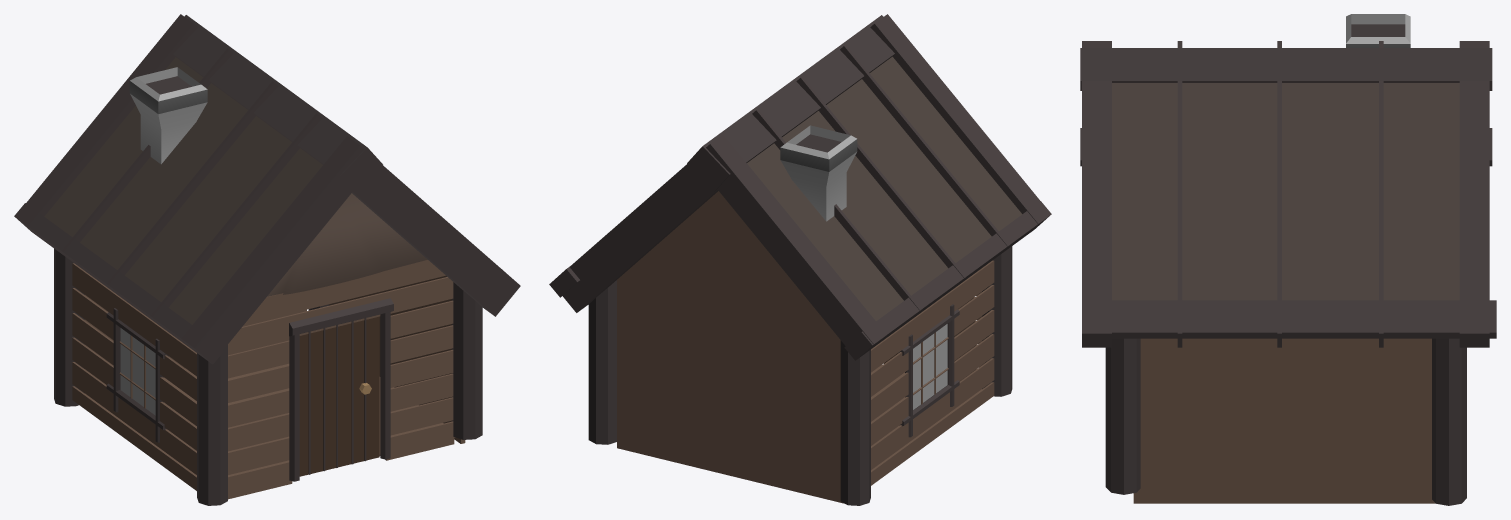
File: grass_house.fbx
The picture shows the model from 3 angles, left to right: view 1: azimuth 30°, elevation 25°; view 2: azimuth 150°, elevation 25°; view 3: azimuth 270°, elevation 25°; orthographic projection. The views are drawn at different scales.
Visible parts, largest first — view 1: pCube4, pCube2, pCube6, pCube1, pCone1, pCube3, pCube40, pCylinder4, pCylinder3, pCube38, pCube18, pCube25 (+32 smaller); view 2: pCube37, pCube4, pCube3, pCube1, pCube2, pCube40, pCylinder1, pCylinder2, pCube38, pCube27, pCylinder4, pCube34 (+12 smaller); view 3: pCube5, pCube36, pCube39, pCube1, pCube3, pCube2, pCylinder2, pCylinder3, pCube40, pCube42, pCube43, pCube44.
Part boxes in pixels (x1,y1,x2,y2): pCube4: (44, 57, 322, 324); pCube2: (181, 136, 520, 355); pCube6: (299, 316, 379, 476); pCube1: (173, 15, 382, 193); pCone1: (267, 193, 427, 296); pCube3: (15, 14, 197, 233); pCube40: (129, 67, 207, 164); pCylinder4: (197, 345, 227, 505); pCylinder3: (452, 282, 482, 439); pCube38: (14, 203, 223, 364); pCube18: (228, 277, 453, 353); pCube25: (244, 260, 445, 324); pCube37: (617, 191, 844, 503); pCube4: (747, 56, 1022, 320); pCube3: (563, 134, 886, 350); pCube1: (687, 15, 894, 191); pCube2: (870, 14, 1051, 229); pCube40: (780, 125, 857, 221); pCylinder1: (840, 340, 870, 505); pCylinder2: (588, 280, 616, 444); pCube38: (844, 201, 1051, 360); pCube27: (871, 260, 994, 372); pCylinder4: (982, 246, 1012, 396); pCube34: (871, 358, 994, 469); pCube5: (1112, 83, 1459, 300); pCube36: (1133, 338, 1435, 503); pCube39: (1084, 300, 1496, 338); pCube1: (1080, 48, 1492, 90); pCube3: (1459, 41, 1489, 347); pCube2: (1082, 41, 1111, 347); pCylinder2: (1432, 338, 1466, 505); pCylinder3: (1105, 338, 1140, 494); pCube40: (1346, 14, 1410, 47); pCube42: (1177, 41, 1182, 347); pCube43: (1277, 41, 1281, 347); pCube44: (1379, 41, 1383, 347).
Size of the model in its own units: 5.14 by 5.19 by 5.
